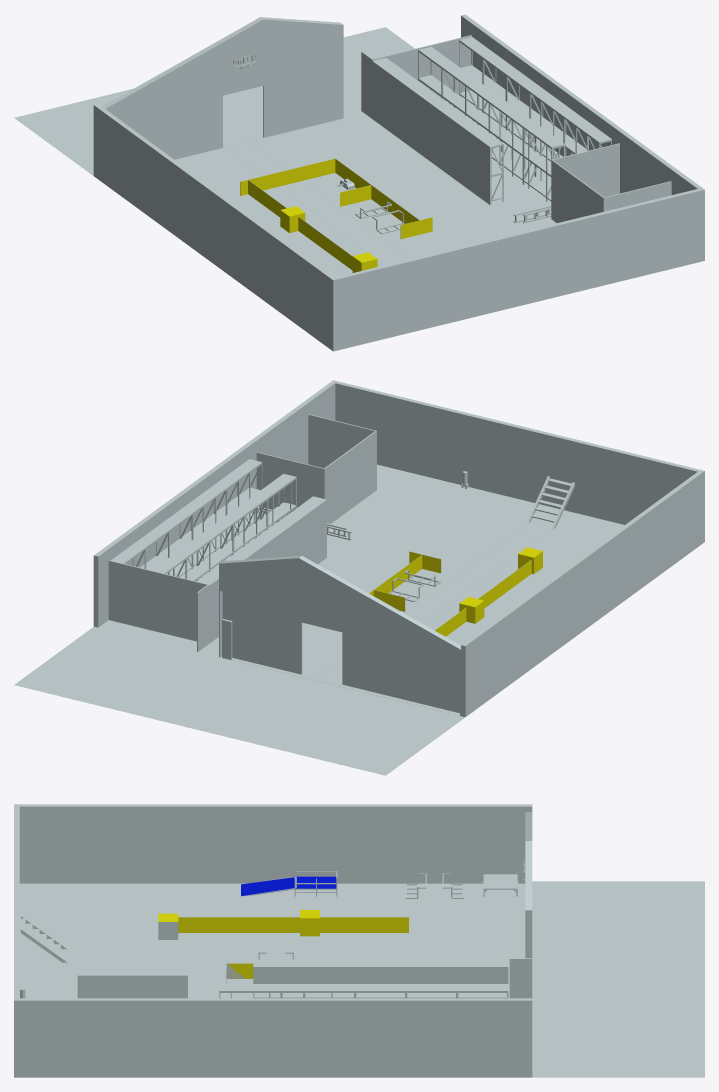
File: argetestsahasi2.dae
3 views of the same model, one above another, from view 1: azimuth 30°, elevation 25°; view 2: azimuth 150°, elevation 25°; view 3: azimuth 270°, elevation 25° (orthographic). The views are drawn at different scales.
Parts seen in each view (by area): view 1: BirfenArGeAtolye2; view 2: BirfenArGeAtolye2; view 3: BirfenArGeAtolye2.
Part boxes in pixels (x1=…): BirfenArGeAtolye2: x1=14, y1=14, x2=704, y2=351; BirfenArGeAtolye2: x1=14, y1=380, x2=704, y2=775; BirfenArGeAtolye2: x1=14, y1=804, x2=704, y2=1077.
Bounding box in the file's own units: 16.4 × 24.4 × 5.
